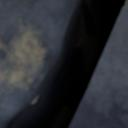broken_brick: (0, 0, 75, 127), (71, 6, 127, 127)
crack: (2, 0, 127, 127)
